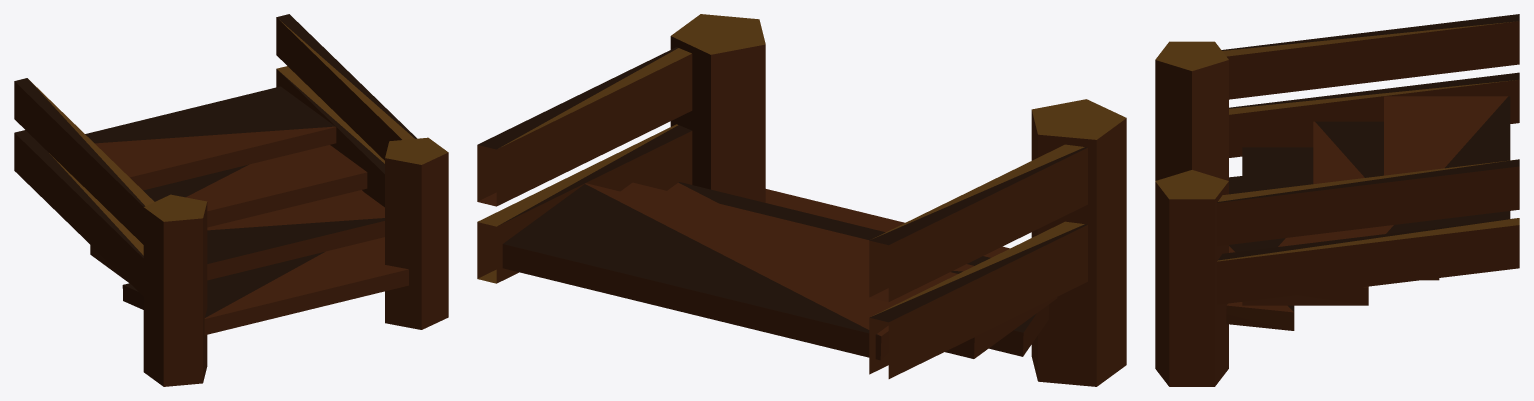
The model's file is Bridge_3_start_end.fbx.
3 renders of one model, left to right at view 1: azimuth 30°, elevation 25°; view 2: azimuth 150°, elevation 25°; view 3: azimuth 270°, elevation 25°, orthographic. The views are drawn at different scales.
Visible parts, largest first — view 1: Bridge_3_start_end; view 2: Bridge_3_start_end; view 3: Bridge_3_start_end.
Part boxes in pixels (x1,y1,x2,y2): Bridge_3_start_end: (14,14,448,386); Bridge_3_start_end: (477,14,1126,386); Bridge_3_start_end: (1155,14,1519,386).
Bounding box in the file's own units: 204 × 132 × 199.
